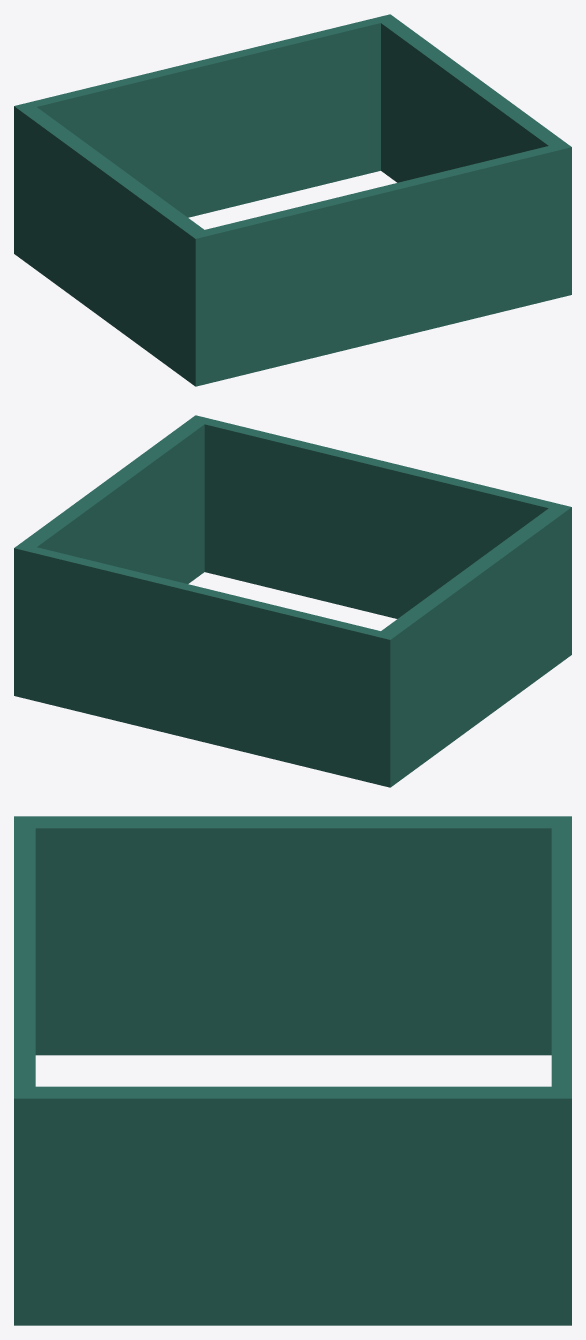
Rendered from lvlgeom.glb.
3 views of the same model, one above another, from view 1: azimuth 30°, elevation 25°; view 2: azimuth 150°, elevation 25°; view 3: azimuth 270°, elevation 25° (orthographic). The views are drawn at different scales.
Visible parts, largest first — view 1: tri1.001; view 2: tri1.001; view 3: tri1.001.
Boxes of the visible parts, box(x1,y1,x2,y2) form: tri1.001: box(14, 14, 571, 386); tri1.001: box(14, 415, 571, 787); tri1.001: box(14, 816, 571, 1325).
Size of the model in its own units: 65.56 by 24.59 by 54.79.
